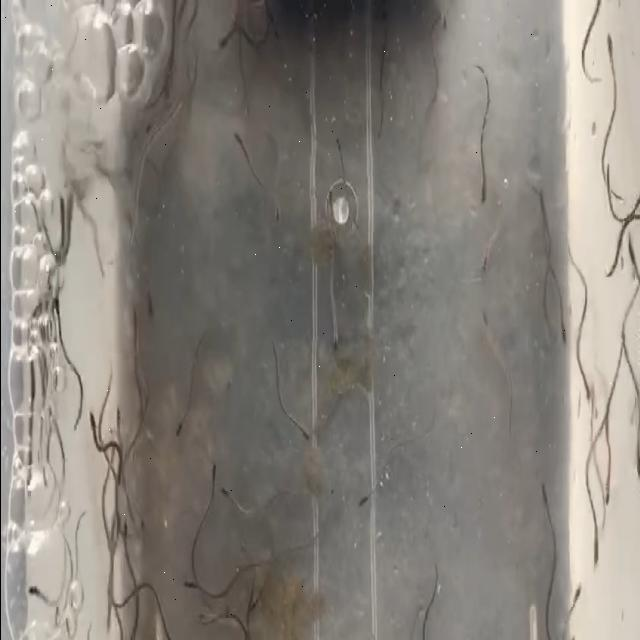active_glass_eel: (294, 384, 316, 458), (122, 298, 150, 352), (472, 300, 498, 355), (138, 272, 162, 330), (466, 165, 494, 214), (261, 188, 287, 240), (351, 476, 373, 534), (472, 238, 499, 284), (576, 367, 596, 426), (110, 396, 136, 441), (217, 466, 241, 514), (322, 310, 344, 362), (537, 474, 556, 530), (84, 396, 104, 449), (598, 28, 620, 76), (582, 526, 603, 576), (566, 555, 584, 613), (212, 23, 236, 61), (624, 218, 640, 274), (168, 404, 186, 453), (224, 111, 242, 156), (598, 476, 614, 526), (552, 310, 568, 360), (179, 560, 195, 610), (22, 576, 42, 608), (206, 454, 222, 492), (63, 194, 79, 232), (51, 188, 67, 225), (118, 515, 131, 555), (632, 442, 640, 488), (100, 612, 114, 634)
